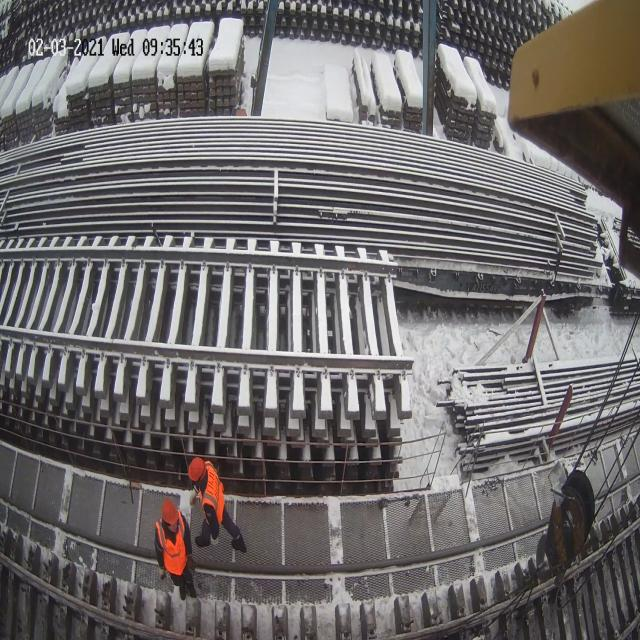Helmet: (162, 498, 178, 526), (188, 457, 205, 482)
Person: (188, 456, 246, 554), (154, 498, 197, 600)
